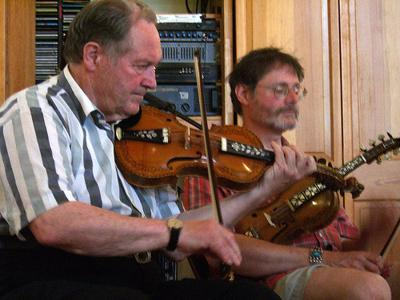person: (1, 1, 316, 300)
